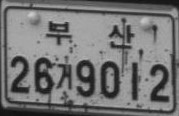0: (99, 59, 120, 99)
1: (125, 61, 144, 100)
2: (149, 62, 170, 103), (9, 54, 30, 94)
6: (32, 56, 54, 95)
9: (75, 58, 95, 97)
거: (56, 62, 72, 90)
부산_D: (45, 19, 136, 50)
